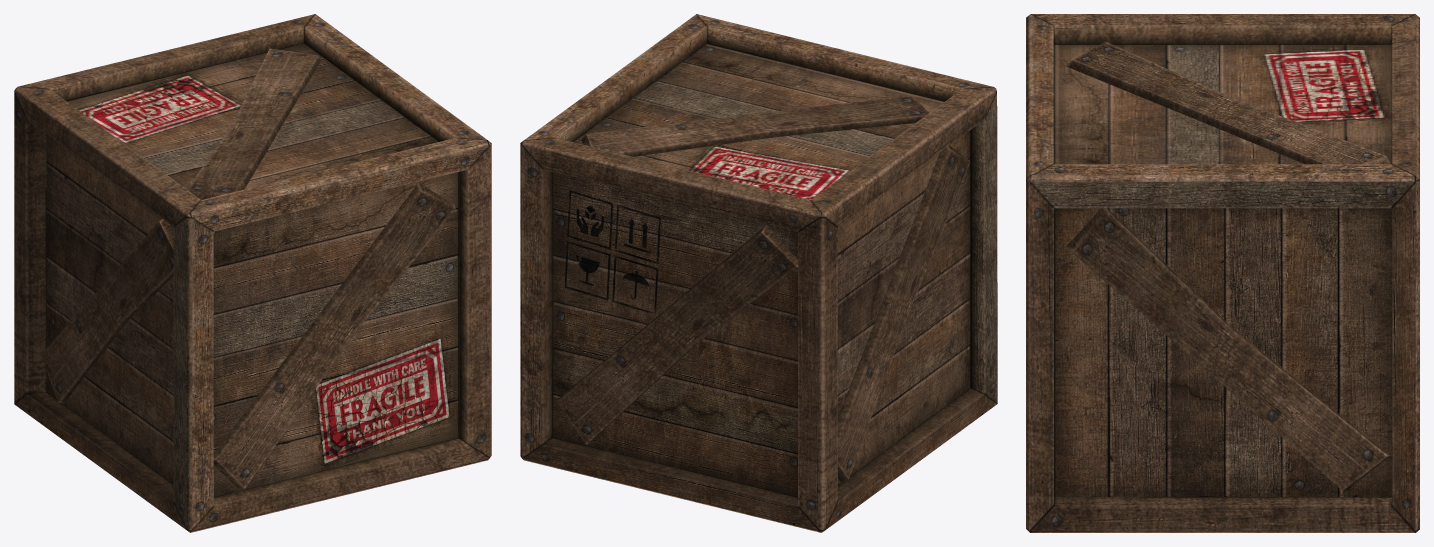
File: crate_box.glb
3 views of the same model, side by side, from view 1: azimuth 30°, elevation 25°; view 2: azimuth 150°, elevation 25°; view 3: azimuth 270°, elevation 25° (orthographic). The views are drawn at different scales.
Parts seen in each view (by area): view 1: Old Crate; view 2: Old Crate; view 3: Old Crate.
Boxes of the visible parts, x1,y1,x2,y2 form: Old Crate: [14, 14, 491, 532]; Old Crate: [520, 14, 997, 532]; Old Crate: [1026, 14, 1419, 532].
Bounding box in the file's own units: 0.6002 × 0.6016 × 0.6016.
Materials: 1 (1 with a texture image).
